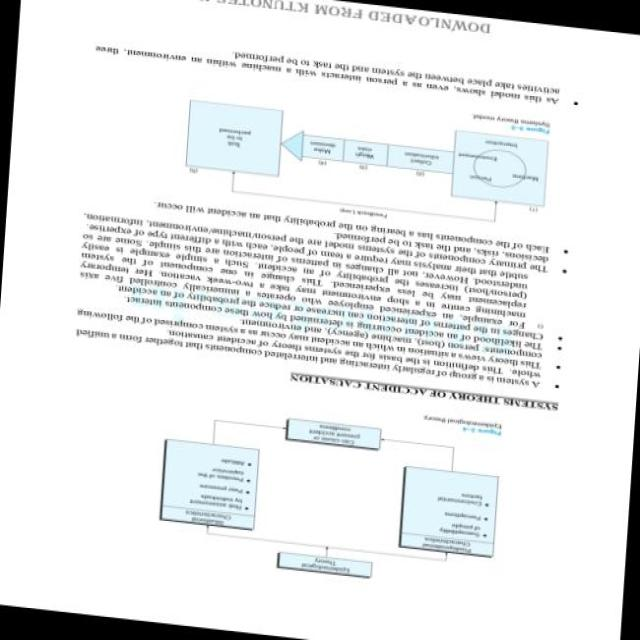Figure Detection - v3 Dataset Version2: (132, 397, 520, 607), (166, 73, 569, 244)
